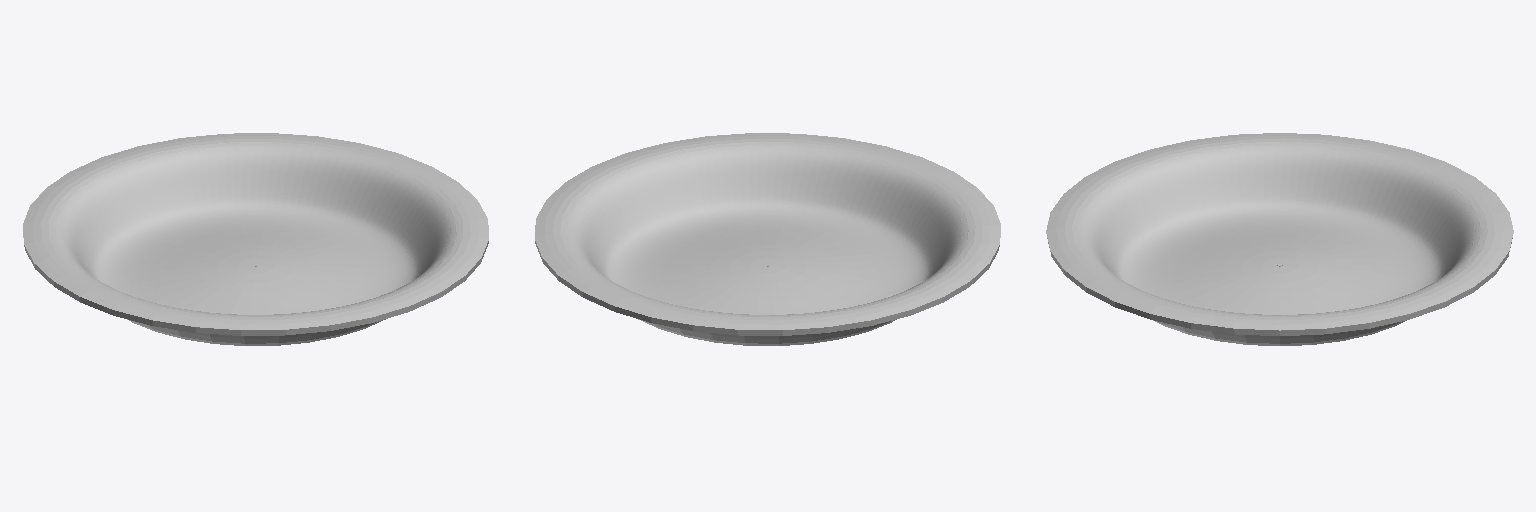
The picture shows the model from 3 angles: view 1: azimuth 30°, elevation 25°; view 2: azimuth 150°, elevation 25°; view 3: azimuth 270°, elevation 25°; orthographic projection.
Parts seen in each view (by area): view 1: BowlI2; view 2: BowlI2; view 3: BowlI2.
Boxes of the visible parts, box(x1,y1,x2,y2) form: BowlI2: box(23, 133, 488, 345); BowlI2: box(535, 133, 1000, 345); BowlI2: box(1046, 133, 1513, 345).
Bounding box in the file's own units: 5.7 × 0.7137 × 5.7.